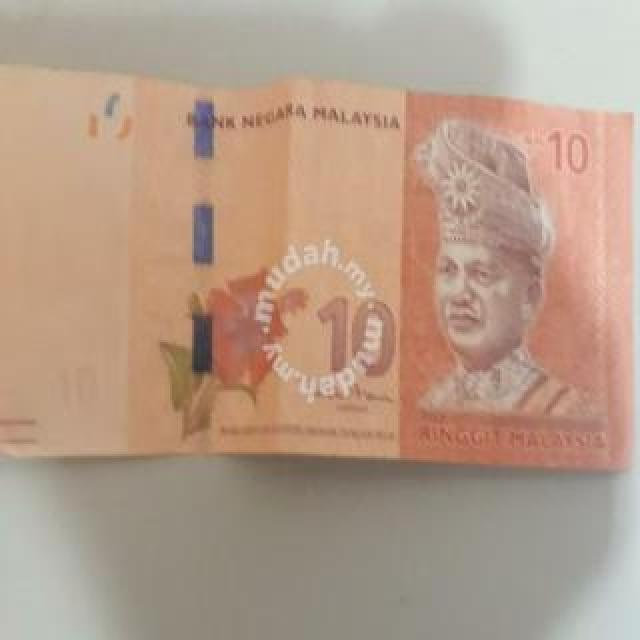10 Ringgit: (0, 68, 634, 482)
